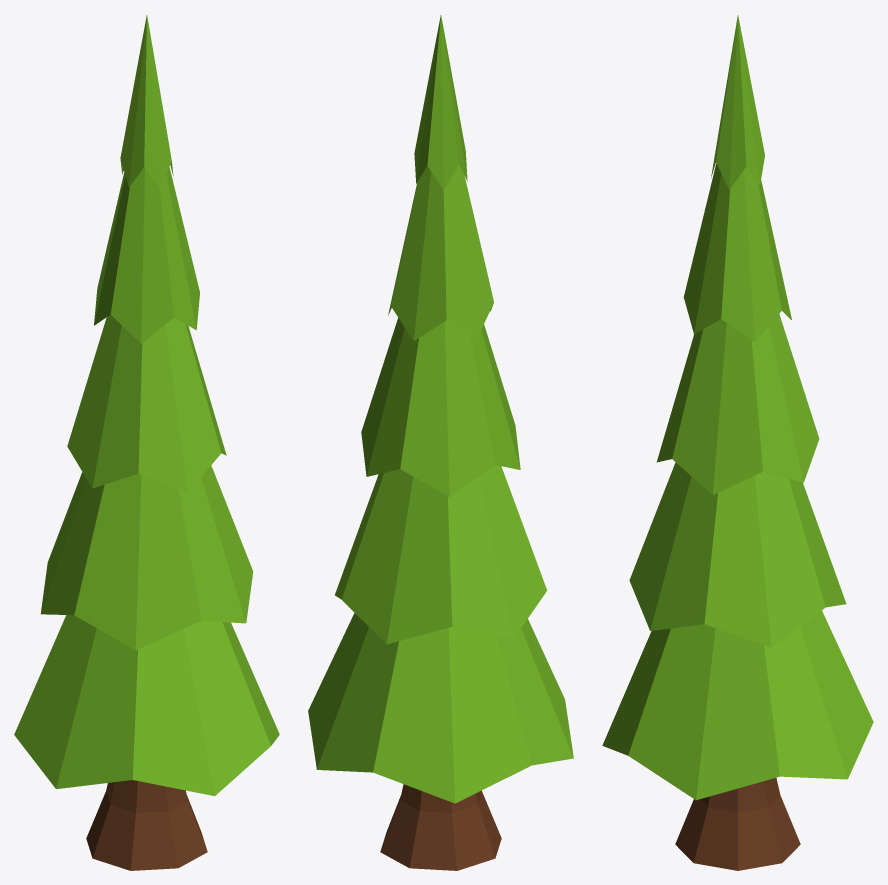
The model's file is Pine.fbx.
The picture shows the model from 3 angles, left to right: view 1: azimuth 30°, elevation 25°; view 2: azimuth 150°, elevation 25°; view 3: azimuth 270°, elevation 25°; orthographic projection.
Parts seen in each view (by area): view 1: Cylinder, Cylinder.001; view 2: Cylinder, Cylinder.001; view 3: Cylinder, Cylinder.001.
Boxes of the visible parts, x1,y1,x2,y2 form: Cylinder: (14,15,279,796); Cylinder.001: (86,780,207,870); Cylinder: (308,15,573,803); Cylinder.001: (380,784,501,870); Cylinder: (602,15,873,800); Cylinder.001: (675,778,800,870).
Bounding box in the file's own units: 230 × 817 × 242.
